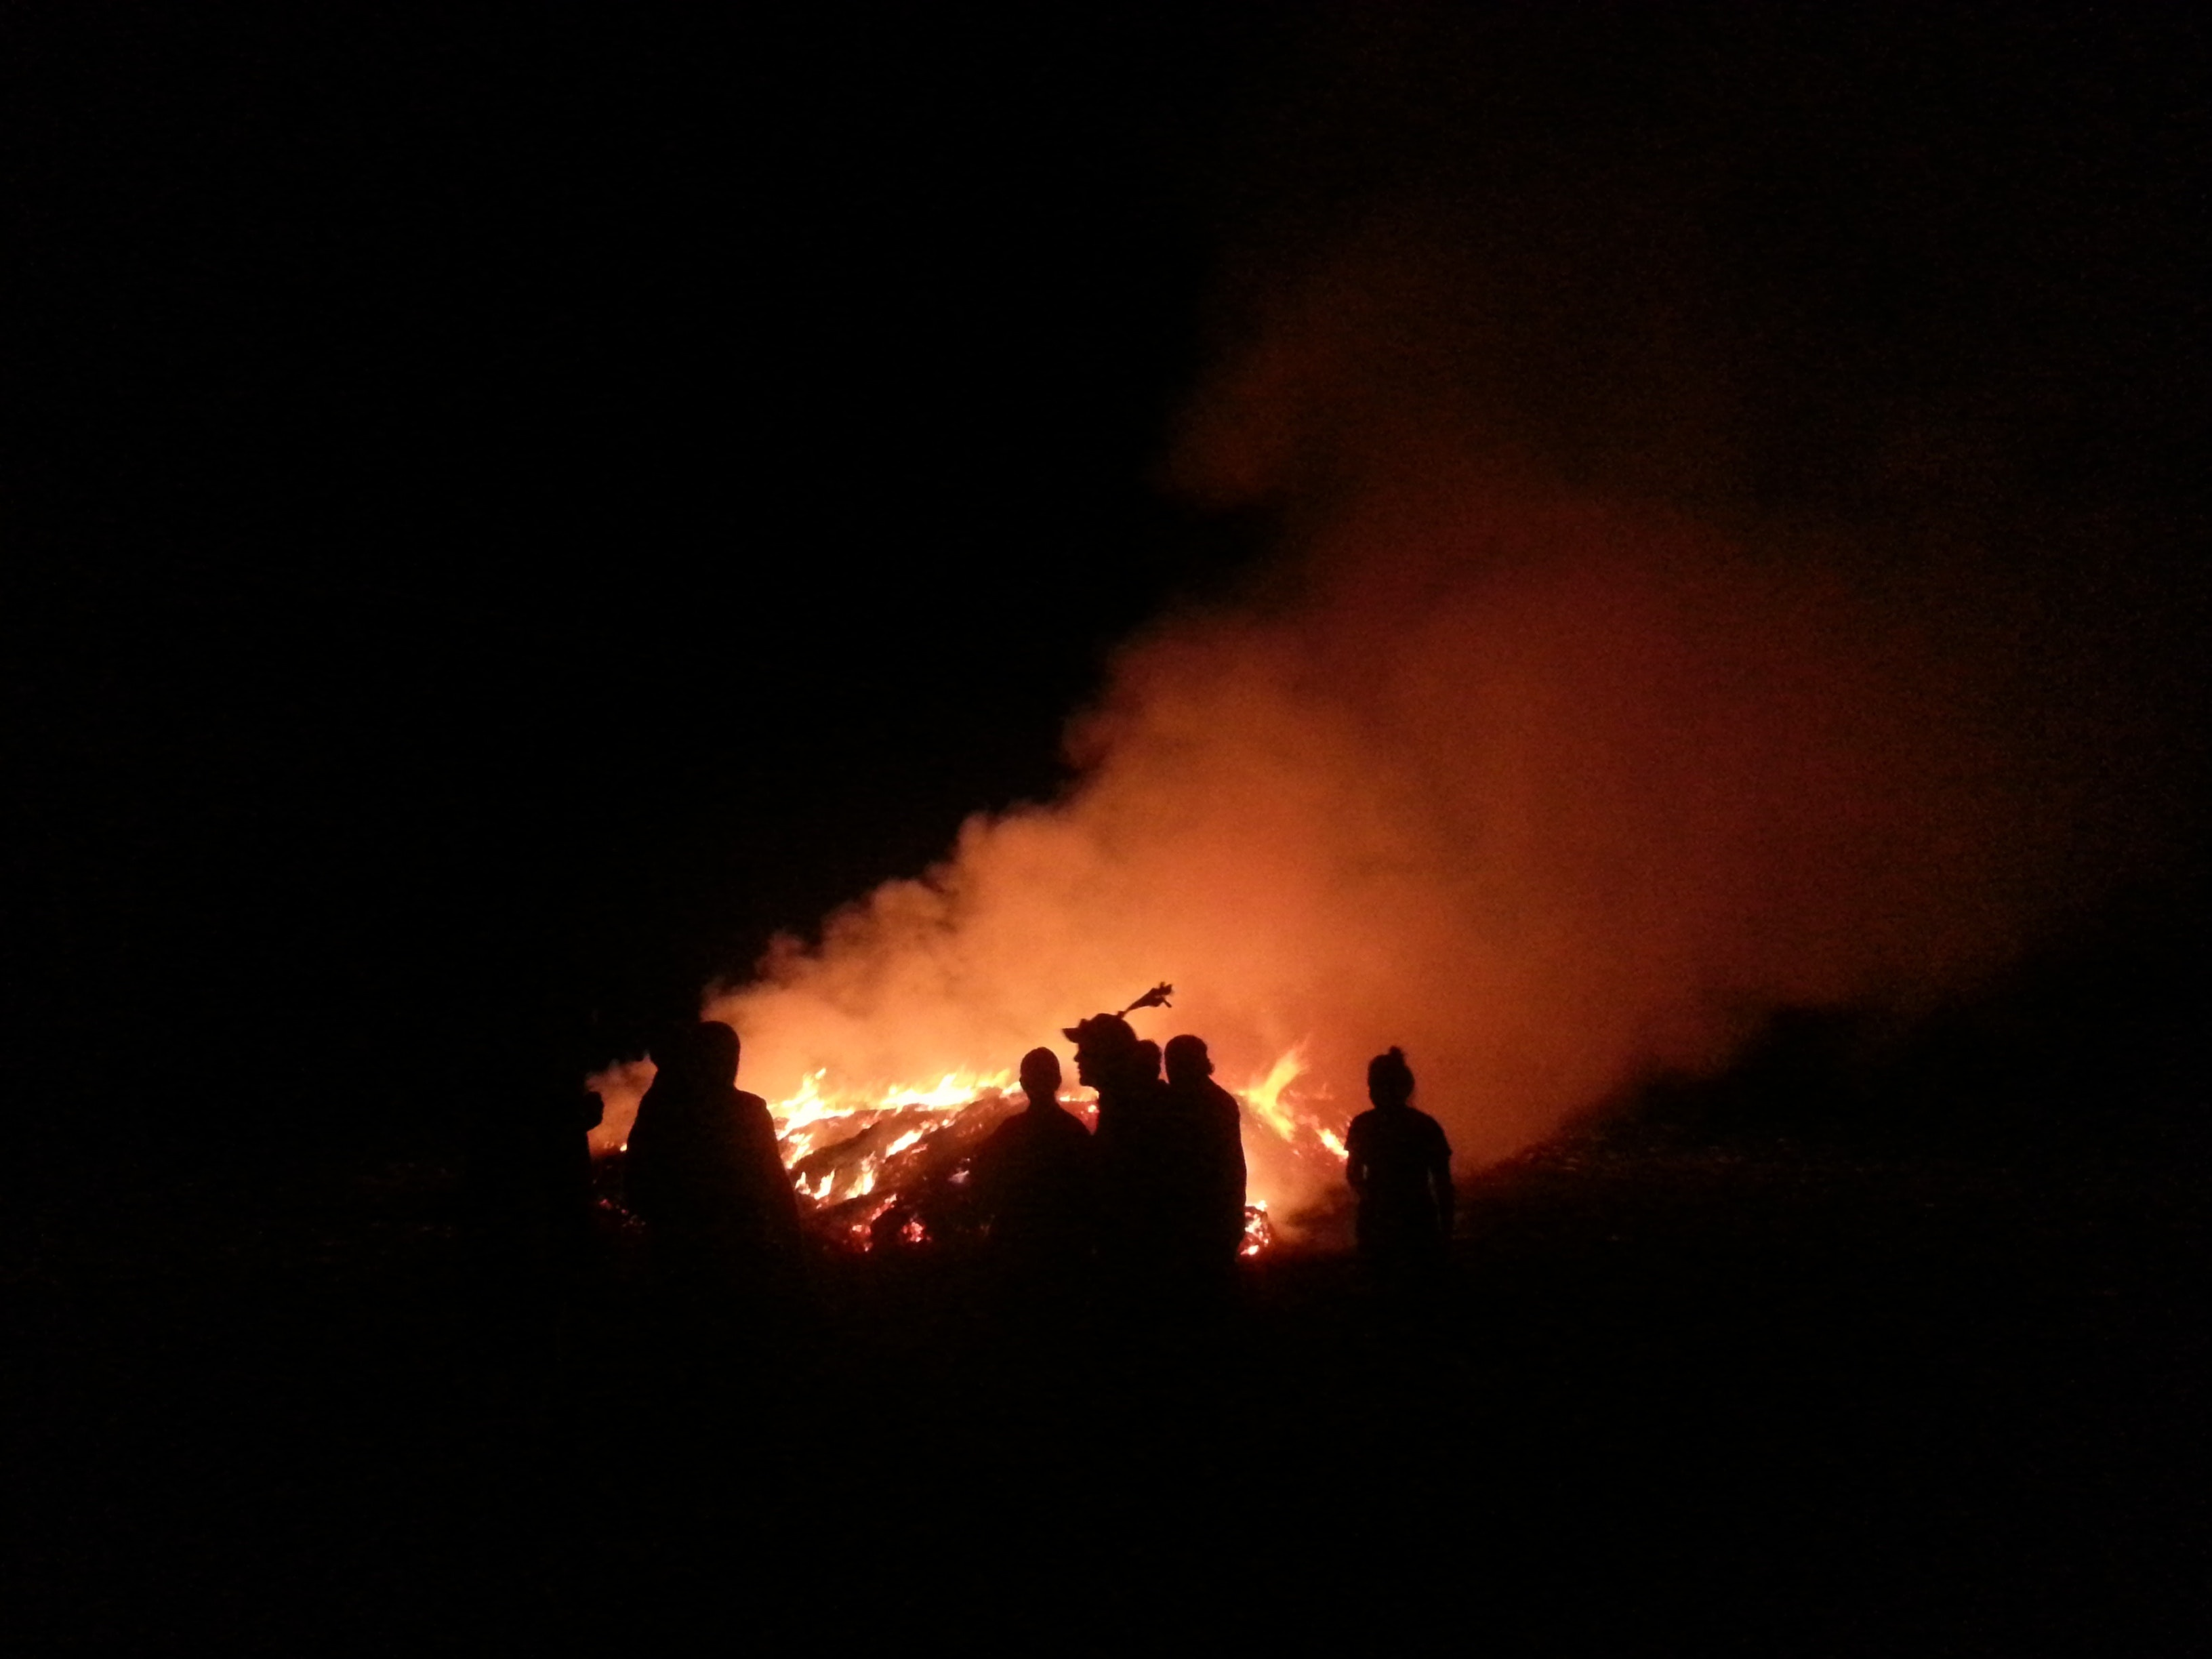fire: (758, 1014, 1350, 1232)
